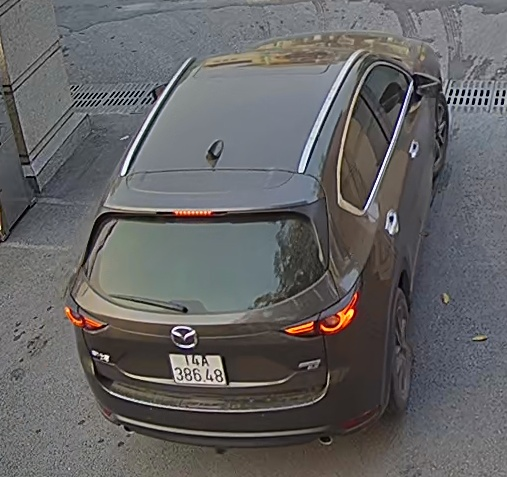vehicle plate: (165, 348, 233, 389)
